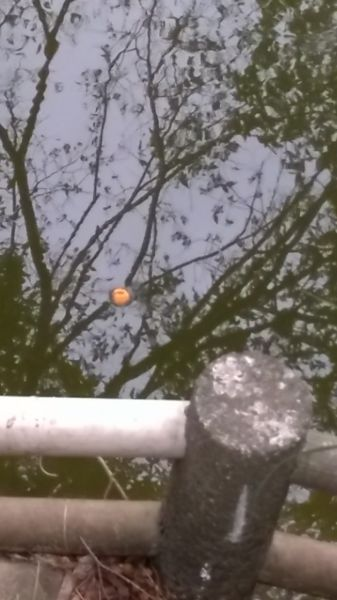eggs: (106, 284, 135, 308)
